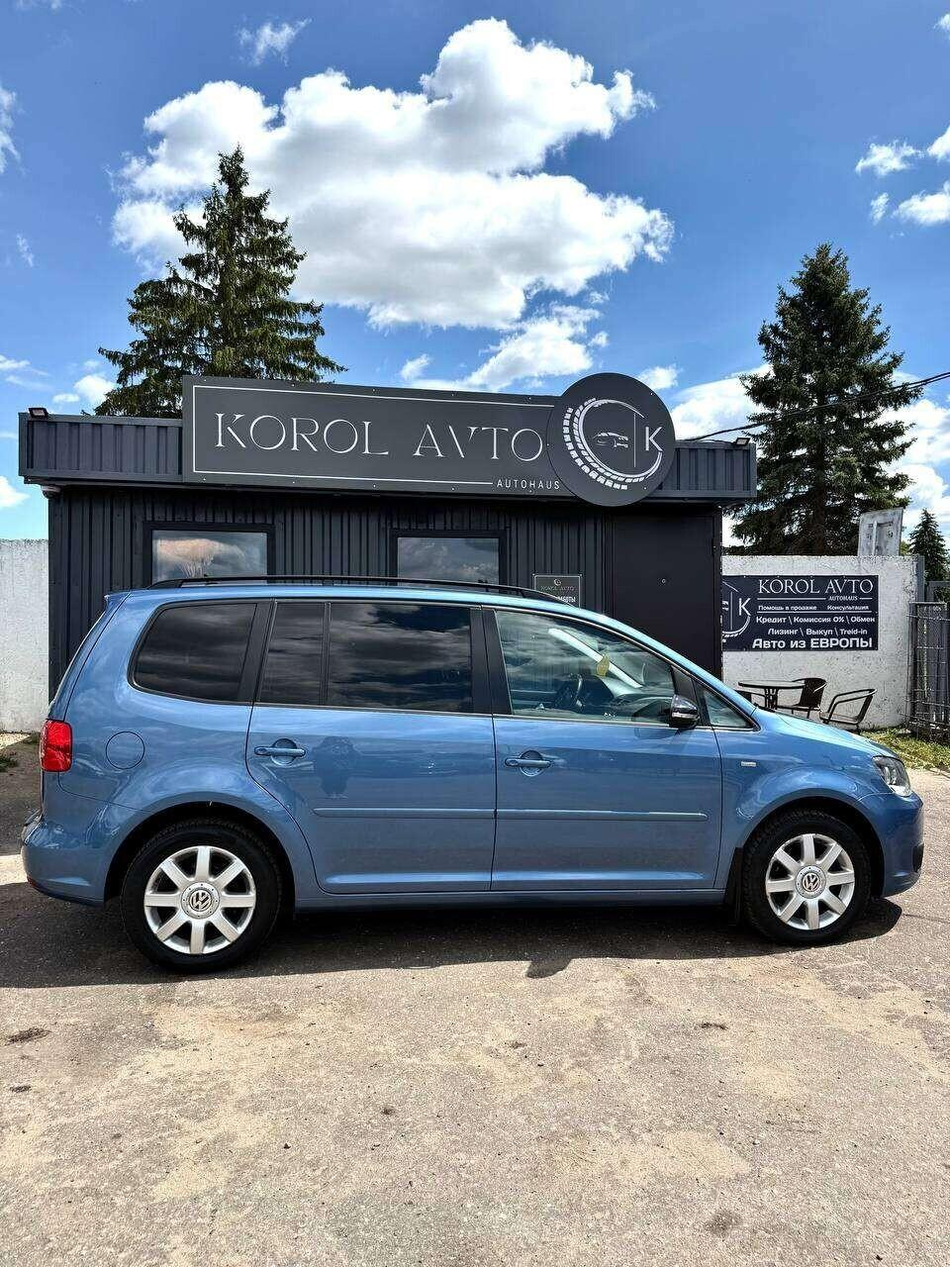Touran_2010-2015: (21, 572, 922, 963)
